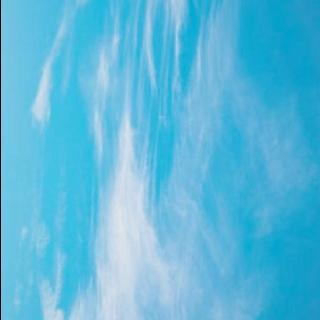Cirrus: (9, 0, 320, 320)
